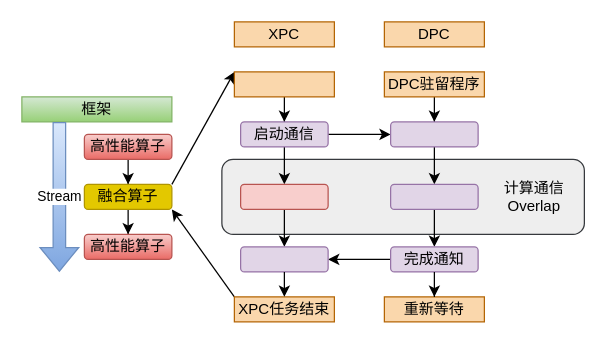
The diagram is 606 pixels wide and 344 high, and some of its shapes have lost their labels. The shapes that lost their labels are listed below. From the top down, each one's centre as x and y in pixels, then its label:
point 283,84: 启动XPC
point 433,134: 等待启动
point 283,196: 高性能计算
point 433,196: 通信操作
point 283,259: 等待通信
